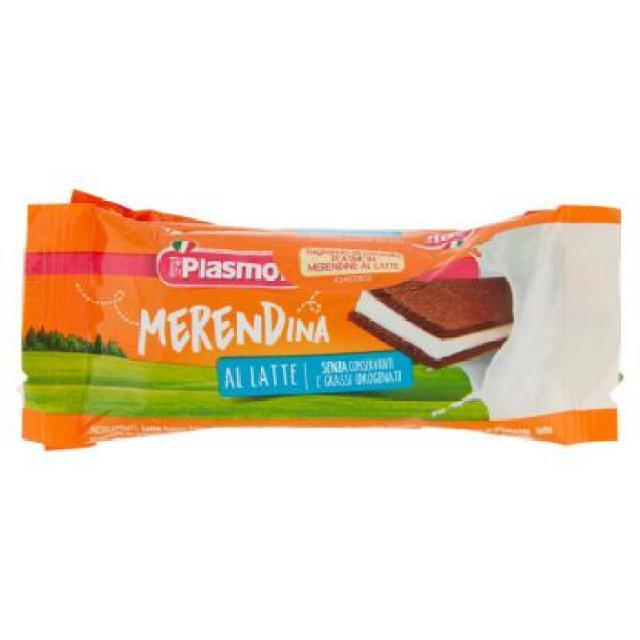Merendine: (28, 198, 626, 447)
